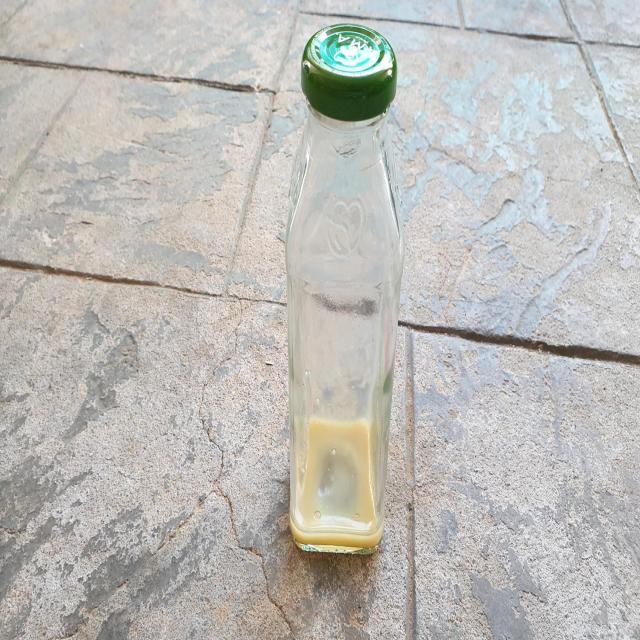glass: (285, 22, 404, 553)
